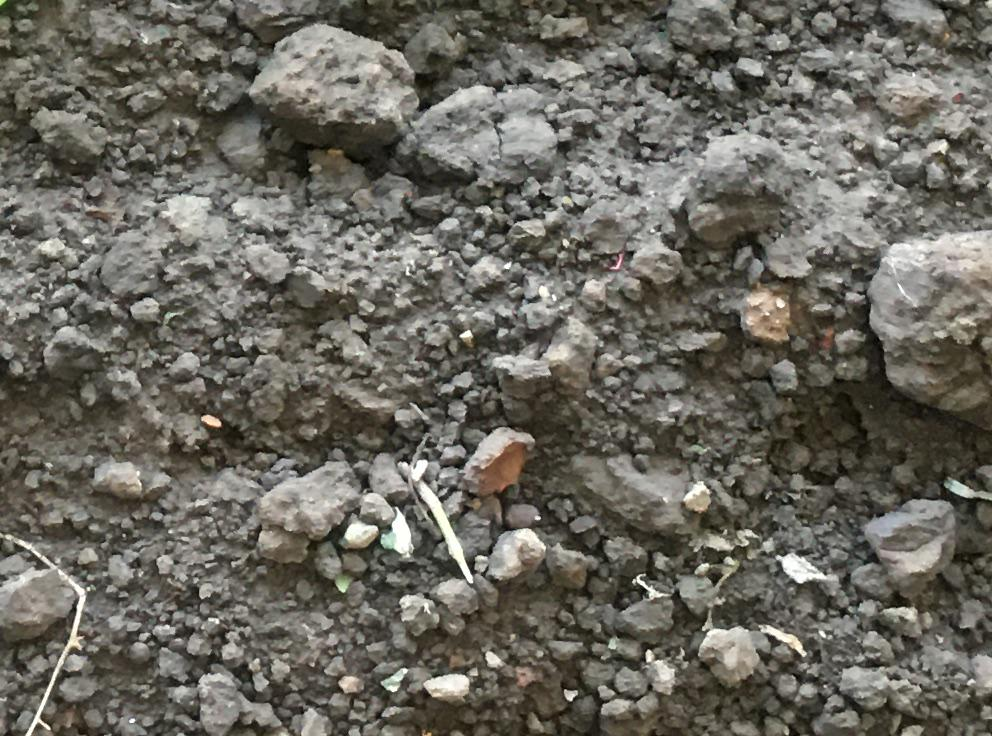block: (870, 235, 992, 430), (248, 22, 417, 154)
